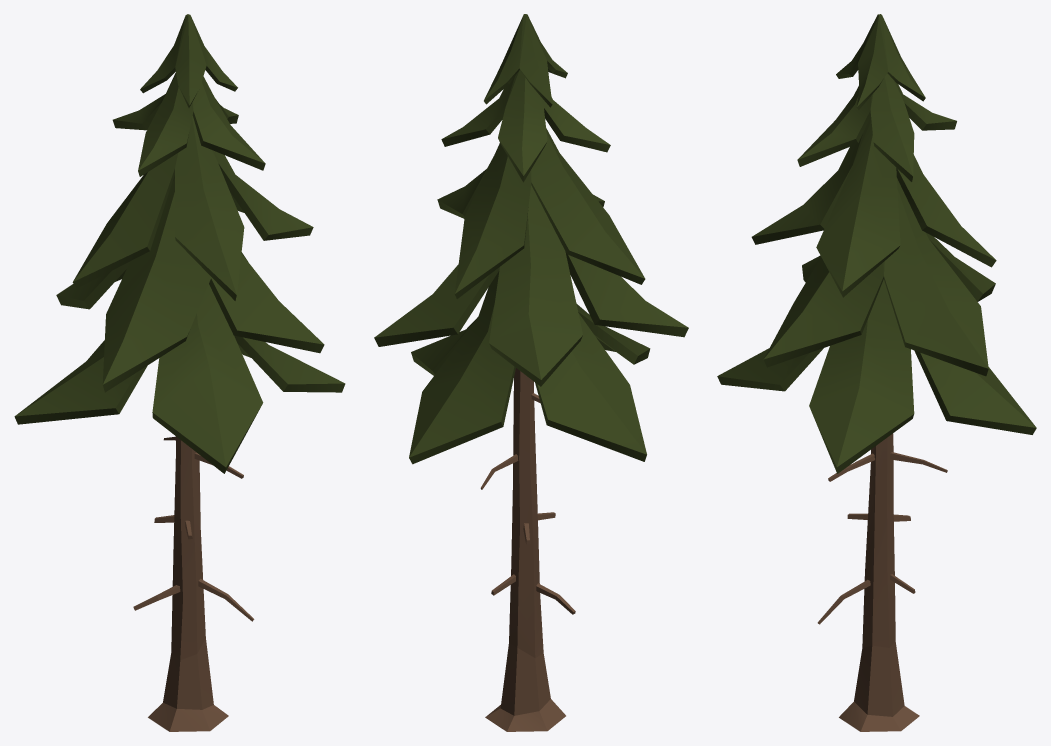
File: FirB.fbx
3 renders of one model, left to right at view 1: azimuth 30°, elevation 25°; view 2: azimuth 150°, elevation 25°; view 3: azimuth 270°, elevation 25°, orthographic.
Parts seen in each view (by area): view 1: FirB; view 2: FirB; view 3: FirB.
Part boxes in pixels (box(x1,y1,x2,y2)): FirB: box(14, 14, 345, 731); FirB: box(374, 14, 688, 731); FirB: box(717, 14, 1036, 731).
Size of the model in its own units: 930 by 2199 by 908.
